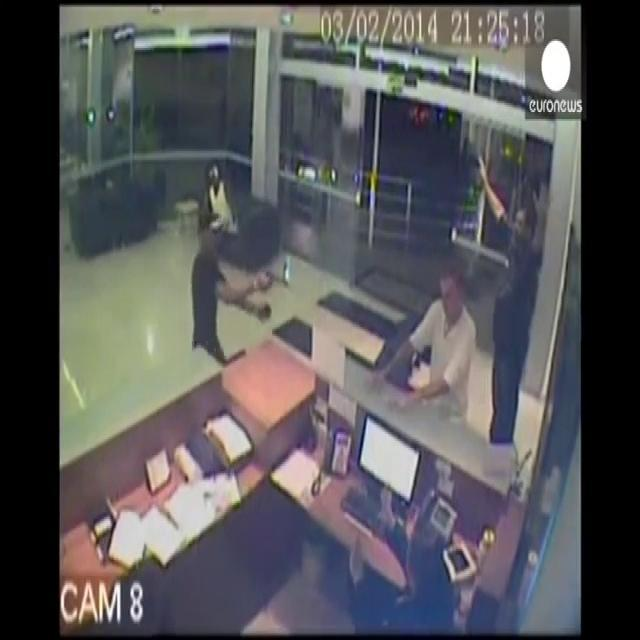weapon: (262, 264, 293, 294)
